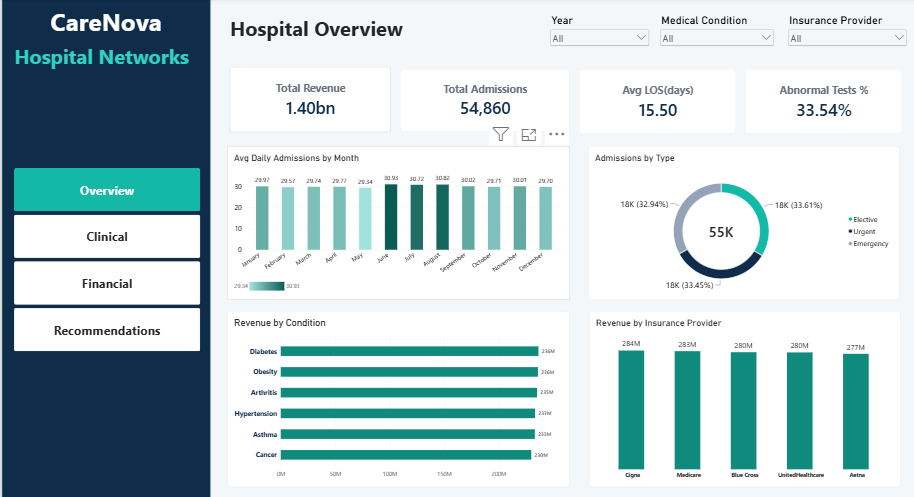

The page's visual inventory and layout, read from the dashboard file:
{"tool":"powerbi","page":{"name":"Overview","canvas":[2200,1200],"ordinal":0},"visuals":[{"type":"cardVisual","fields":{"Data":["measures (2).Total Revenue"]},"box":[547.5,165,385,155],"z":0},{"type":"cardVisual","fields":{"Data":["measures (2).Total Admissions"]},"box":[955,170,407.5,150],"z":1000},{"type":"cardVisual","fields":{"Data":["measures (2).Avg LOS(days)"]},"box":[1385,170,377.5,155],"z":2000},{"type":"cardVisual","fields":{"Data":["measures (2).Abnormal Tests %"]},"box":[1782.5,170,377.5,155],"z":3000},{"type":"slicer","fields":{"Values":["dim_date.Year"]},"box":[1310,37.5,247.5,167.5],"z":4000},{"type":"slicer","fields":{"Values":["dim_condition.Medical Condition"]},"box":[1575,37.5,282.5,167.5],"z":5000},{"type":"slicer","fields":{"Values":["dim_insurance.Insurance Provider"]},"box":[1882.5,37.5,295,167.5],"z":6000},{"type":"donutChart","title":"Admissions by Type","fields":{"Category":["dim_admission_type.Admission Type"],"Y":["measures (2).Total Admissions"]},"box":[1407.5,355,747.5,370],"z":7000},{"type":"clusteredBarChart","title":"Revenue by Condition ","fields":{"Category":["dim_condition.Medical Condition"],"Y":["measures (2).Total Revenue"]},"box":[540,750,822.5,422.5],"z":8000},{"type":"clusteredColumnChart","title":"Avg Daily Admissions by Month","fields":{"Category":["dim_date.Month Name"],"Y":["measures (2).Avg Admission per day"]},"box":[540,355,822.5,370],"z":9000},{"type":"shape","box":[0,0,500,1200],"z":10000},{"type":"textbox","box":[0,17.5,500,87.5],"z":11000},{"type":"textbox","box":[0,105,477.5,65],"z":12000},{"type":"textbox","box":[547.5,37.5,440,67.5],"z":13000},{"type":"clusteredColumnChart","title":" Revenue by Insurance Provider","fields":{"Category":["dim_insurance.Insurance Provider"],"Y":["measures (2).Total Revenue"]},"box":[1408,750,748,423],"z":14000},{"type":"pageNavigator","box":[28.9,407.9,447.4,442.1],"z":15000}]}

Visuals, with their boxes in screenshot pixels (x1, y1, x2, y2), scaled from the page's 2200x1200 canvas onto the 914x497 screenshot:
cardVisual - measures (2).Total Revenue: x1=227 y1=68 x2=387 y2=133
cardVisual - measures (2).Total Admissions: x1=397 y1=70 x2=566 y2=133
cardVisual - measures (2).Avg LOS(days): x1=575 y1=70 x2=732 y2=135
cardVisual - measures (2).Abnormal Tests %: x1=741 y1=70 x2=897 y2=135
slicer - dim_date.Year: x1=544 y1=16 x2=647 y2=85
slicer - dim_condition.Medical Condition: x1=654 y1=16 x2=772 y2=85
slicer - dim_insurance.Insurance Provider: x1=782 y1=16 x2=905 y2=85
"Admissions by Type" donutChart: x1=585 y1=147 x2=895 y2=300
"Revenue by Condition " clusteredBarChart: x1=224 y1=311 x2=566 y2=486
"Avg Daily Admissions by Month" clusteredColumnChart: x1=224 y1=147 x2=566 y2=300
shape: x1=0 y1=0 x2=208 y2=496
textbox: x1=0 y1=7 x2=208 y2=43
textbox: x1=0 y1=43 x2=198 y2=70
textbox: x1=227 y1=16 x2=410 y2=43
" Revenue by Insurance Provider" clusteredColumnChart: x1=585 y1=311 x2=896 y2=486
pageNavigator: x1=12 y1=169 x2=198 y2=352
